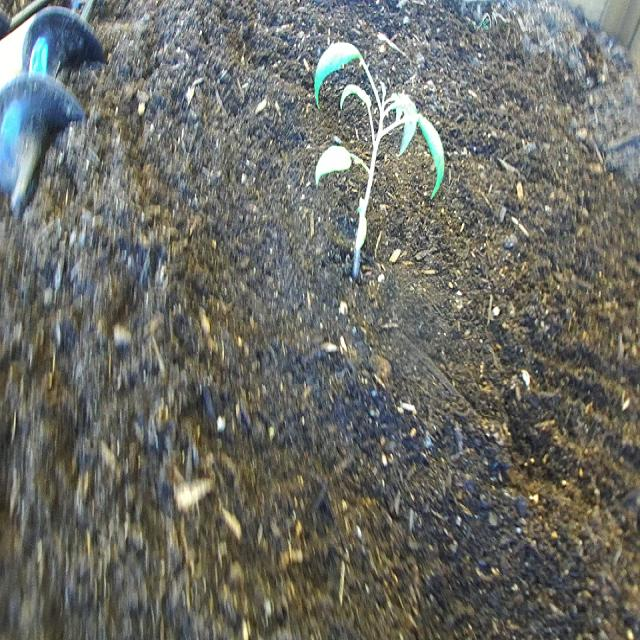Healthy: (308, 34, 448, 292)
